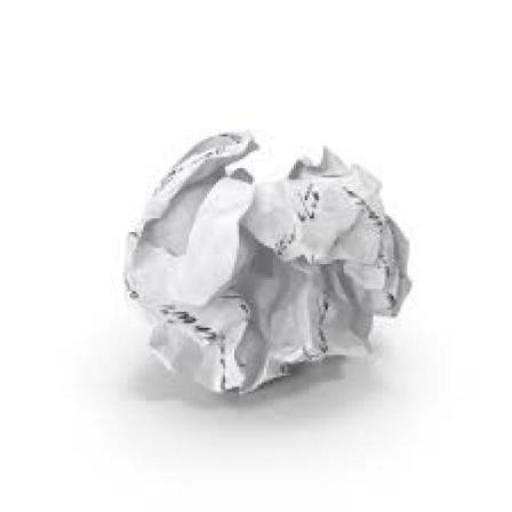paper: (118, 127, 412, 394)
